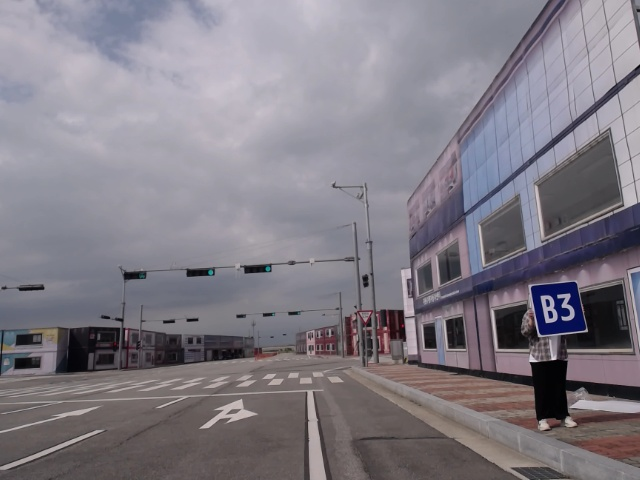delivery_b3: (526, 280, 590, 338)
straight_green_4: (183, 267, 216, 278), (243, 264, 274, 273), (286, 310, 304, 317), (261, 311, 278, 318)
